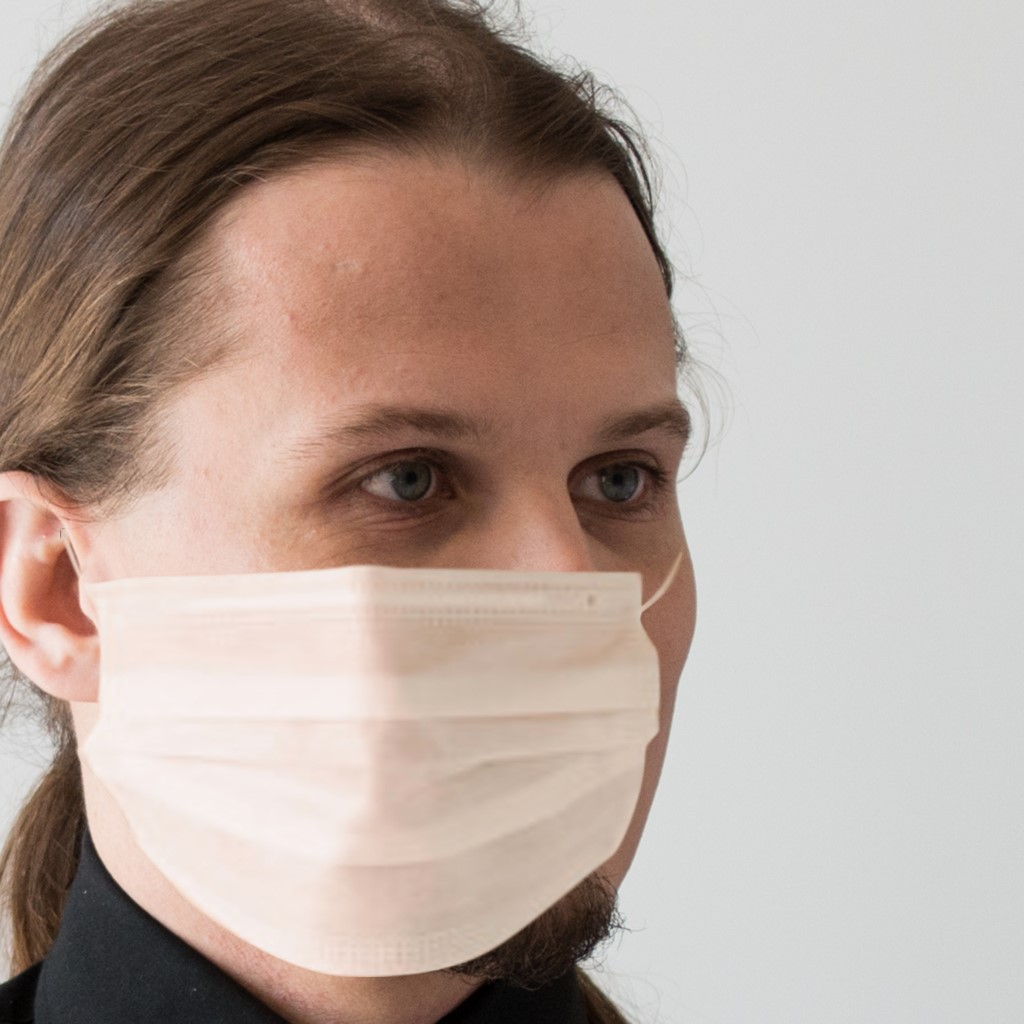con_mascara: (97, 121, 680, 977)
